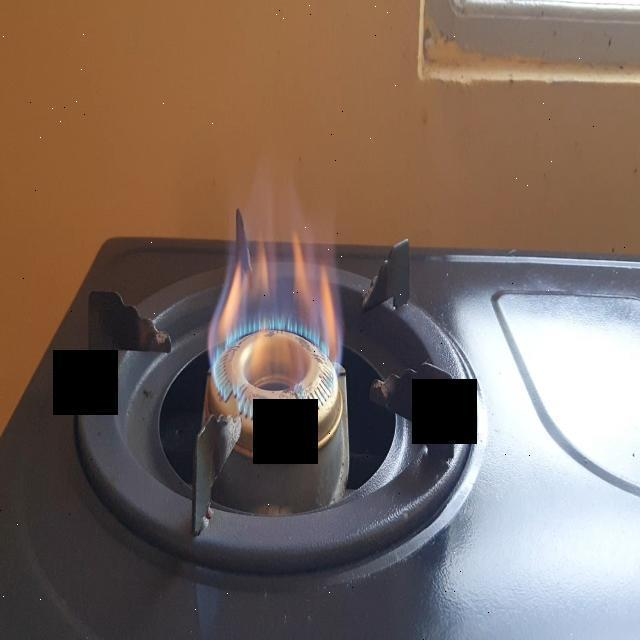Flame: (211, 192, 345, 451)
